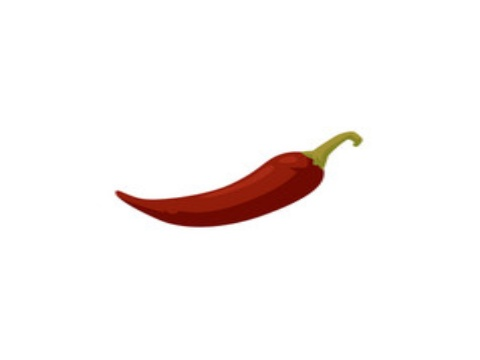Chilli: (97, 130, 377, 236)
